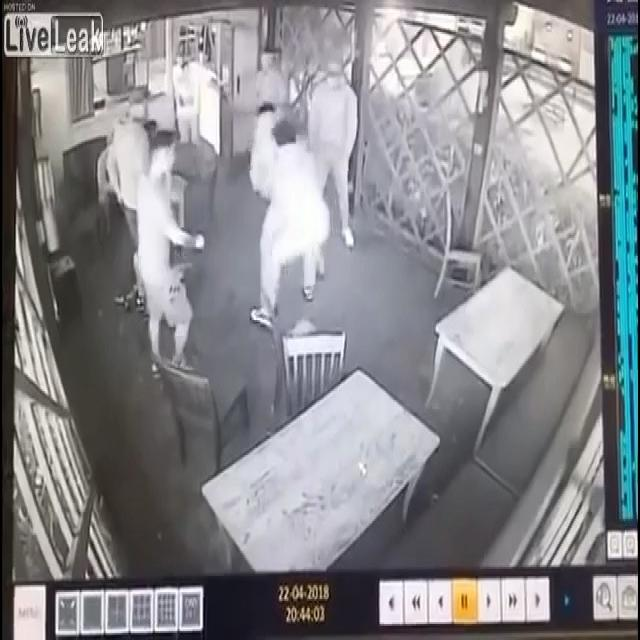fight: (248, 95, 330, 334)
